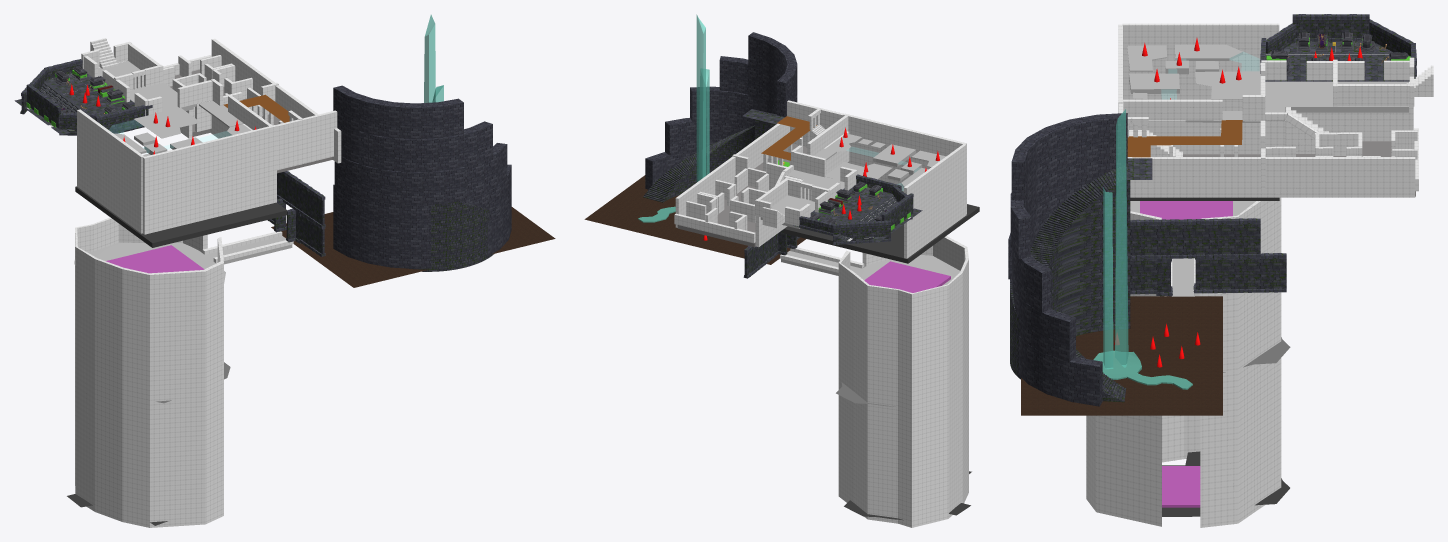
Rendered from NewBlockout.gltf.
The picture shows the model from 3 angles, left to right: view 1: azimuth 30°, elevation 25°; view 2: azimuth 150°, elevation 25°; view 3: azimuth 270°, elevation 25°; orthographic projection. The views are drawn at different scales.
Visible parts, largest first — view 1: PolyShape (×2), Cube (25), Cube (30), MOD_Wall_01_E_convex_small (4), MOD_Wall_01_E_convex_small (1), MOD_Wall_01_E_convex_small (2), Stairs, Plane (1), MOD_Wall_01_E_convex_small (8), MOD_Wall_01_E_convex_small (7), Cube (12), Cube (4) (+13 smaller); view 2: PolyShape (×2), Cube (30), Plane (1), Cube (25), Stairs, Waterfall (×2), MOD_Wall_01_E_convex_small (4), MOD_Wall_01_E_convex_small (3), Cube (4), MOD_Wall_01_E_convex_small (5), Cube (12) (×2), Elevator (+14 smaller); view 3: PolyShape (×2), Plane (1), Stairs (×3), P_MOD_Wall_01_M_straight_large (×9), Cube (30), Cube (13), MOD_Wall_01_E_convex_small (4), Cube (23), Waterfall (×2), MOD_Wall_01_E_convex_small (9), Cube (11), MOD_Wall_01_E_convex_small (+24 smaller).
Part boxes in pixels (x1,y1,x2,y2): PolyShape (×2): (75,107,223,527); Cube (25): (142,125,276,234); Cube (30): (77,109,144,233); MOD_Wall_01_E_convex_small (4): (333,85,463,139); MOD_Wall_01_E_convex_small (1): (359,121,492,172); MOD_Wall_01_E_convex_small (2): (334,156,465,205); Stairs: (409,201,494,271); Plane (1): (271,207,555,287); MOD_Wall_01_E_convex_small (8): (333,216,430,268); MOD_Wall_01_E_convex_small (7): (333,184,463,237); Cube (12): (275,110,337,170); Cube (4): (75,186,287,247); PolyShape (×2): (825,162,968,527); Cube (30): (904,144,966,258); Plane (1): (584,175,805,264); Cube (25): (843,113,966,213); Stairs: (643,110,776,202); Waterfall (×2): (696,14,709,182); MOD_Wall_01_E_convex_small (4): (748,32,797,113); MOD_Wall_01_E_convex_small (3): (690,86,776,126); Cube (4): (783,204,979,263); MOD_Wall_01_E_convex_small (5): (665,118,751,155); Cube (12) (×2): (674,100,844,243); Elevator: (864,261,950,292); PolyShape (×2): (1086,71,1281,527); Plane (1): (1021,296,1222,415); Stairs (×3): (1010,65,1433,402); P_MOD_Wall_01_M_straight_large (×9): (1132,224,1286,290); Cube (30): (1122,23,1279,110); Cube (13): (1261,157,1415,197); MOD_Wall_01_E_convex_small (4): (1011,113,1127,201); Cube (23): (1127,157,1261,197); Waterfall (×2): (1103,109,1128,368); MOD_Wall_01_E_convex_small (9): (1016,333,1102,406); Cube (11): (1129,120,1285,154); MOD_Wall_01_E_convex_small: (1023,158,1127,226).
Bounding box in the file's own units: 88.08 × 91.26 × 65.99.
Materials: 22 (11 with a texture image).
